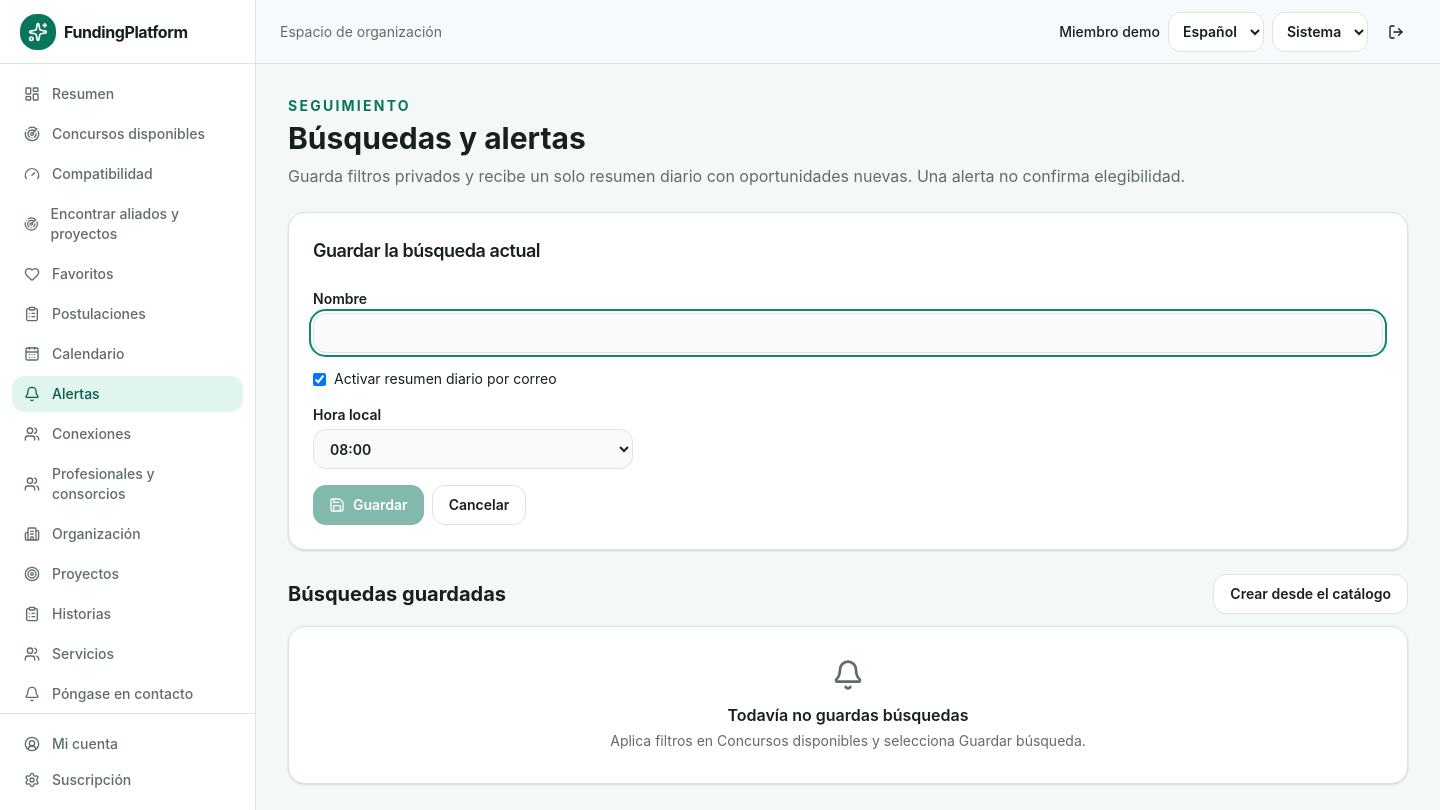
búsquedas guardadas y alertas › conserva la búsqueda cuando el correo del ambiente aún está desactivado
Type "Fondos de agua" into the field labelled "Nombre". click: (848,333)
box: [313,313,1383,353]
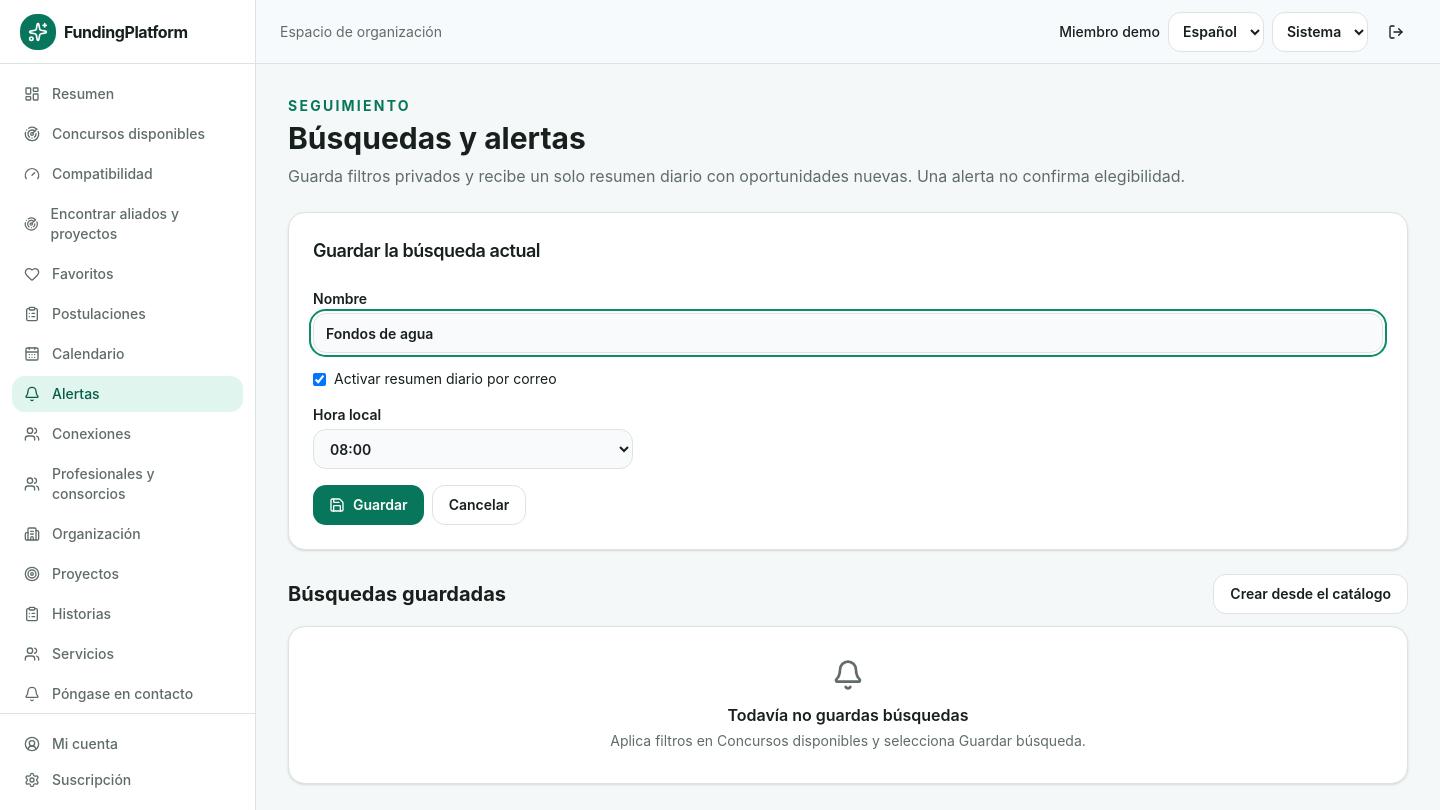
Click the button "Guardar". click: (368,505)
box: [313,485,424,525]
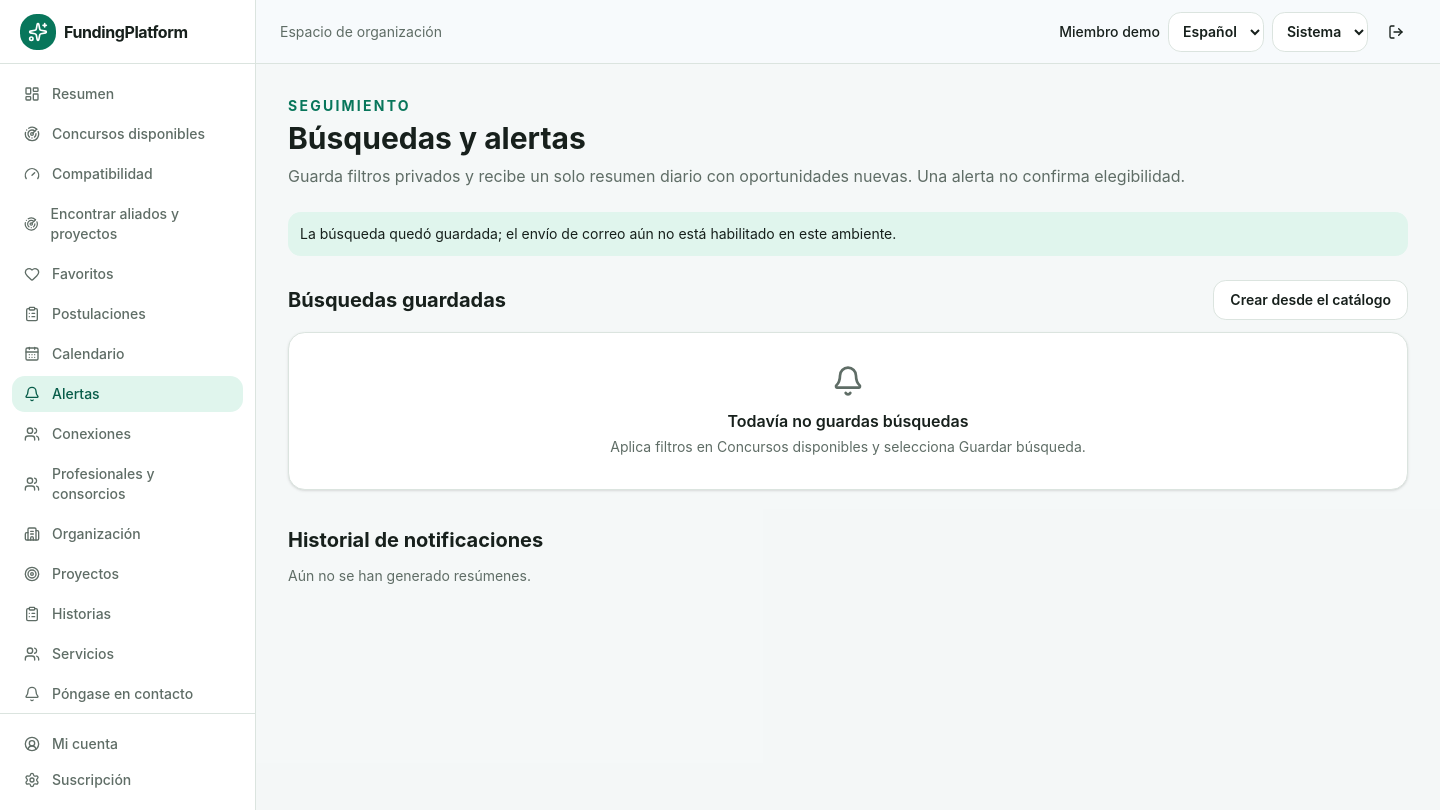
Result: the text "La búsqueda quedó guardada; el envío de correo aún no está habilitado" is shown at [300,225,896,242]
